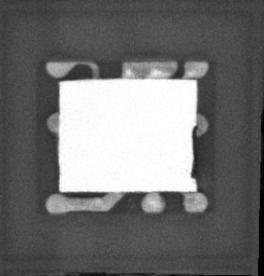DIE_BROKEN: (189, 124, 198, 180)
